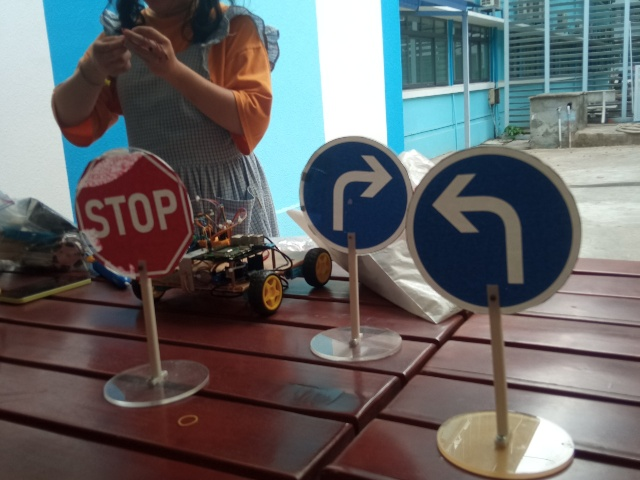Left_Sign: (407, 144, 582, 314)
Right_Sign: (300, 135, 411, 254)
Stop_Sign: (76, 147, 194, 279)
